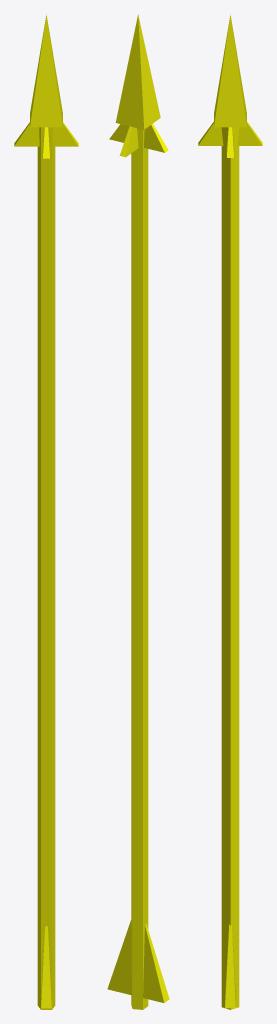
File: _arrow_b_1.glb
The picture shows the model from 3 angles, left to right: view 1: azimuth 90°, elevation 25°; view 2: azimuth 150°, elevation 25°; view 3: azimuth 270°, elevation 25°; orthographic projection.
Visible parts, largest first — view 1: arrow_b_1; view 2: arrow_b_1; view 3: arrow_b_1.
Boxes of the visible parts, box(x1,y1,x2,y2) form: arrow_b_1: box(14, 14, 78, 1009); arrow_b_1: box(107, 14, 169, 1009); arrow_b_1: box(198, 14, 262, 1009).
Size of the model in its own units: 1243 by 20689 by 1220.
